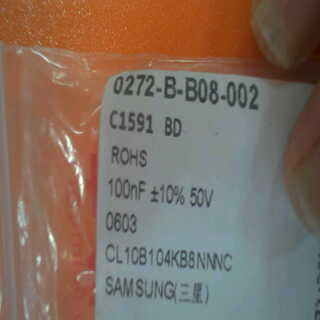100nF: (104, 170, 149, 208)
